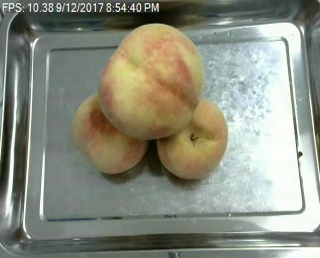Peach: (99, 19, 205, 139), (68, 85, 148, 173), (152, 88, 227, 180)
